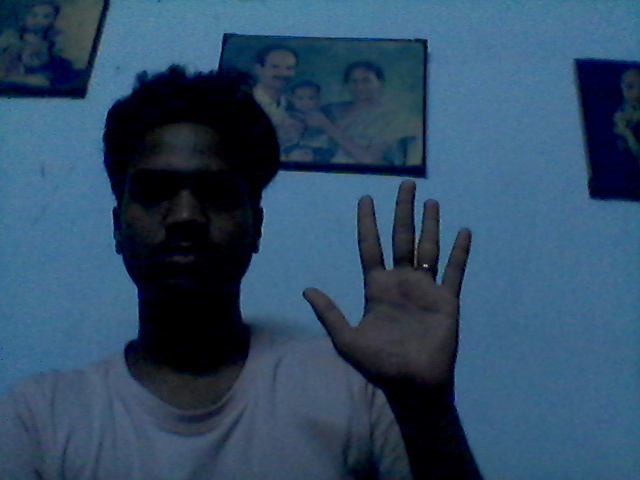Hi: (297, 178, 485, 397)
